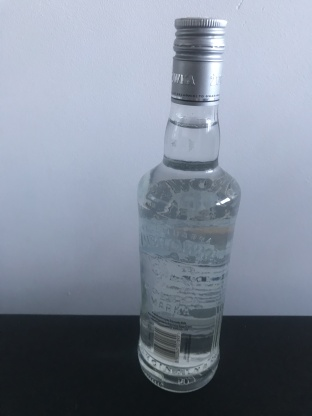nakretka: (168, 14, 229, 108)
